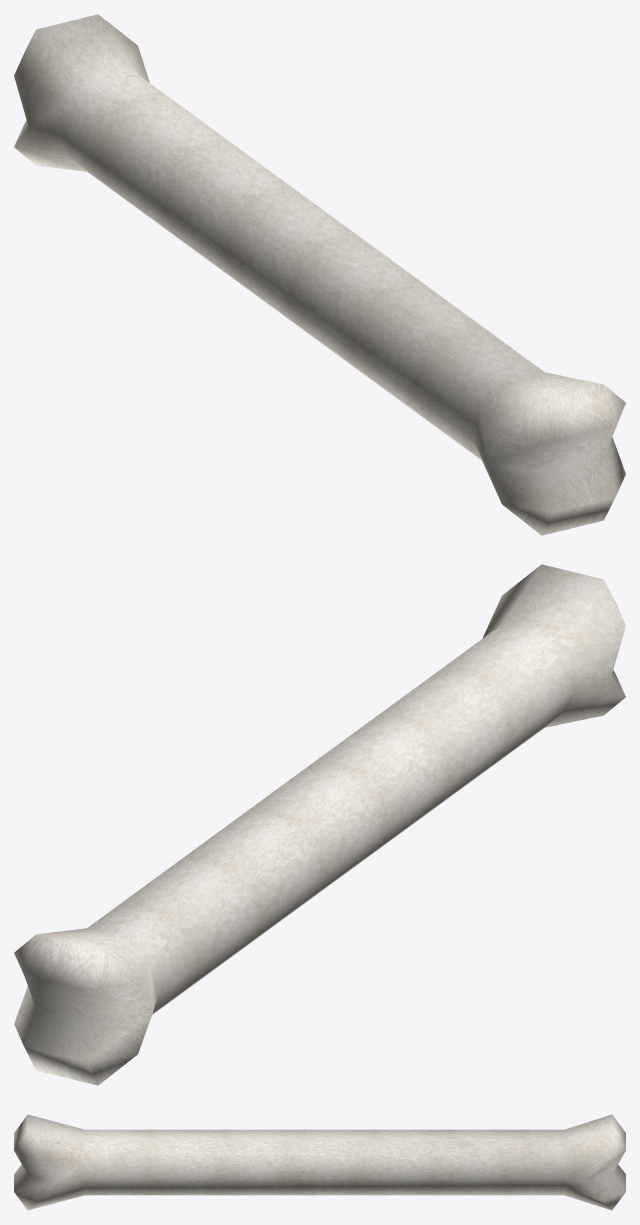
The model's file is Bone.fbx.
The picture shows the model from 3 angles, top to bottom: view 1: azimuth 30°, elevation 25°; view 2: azimuth 150°, elevation 25°; view 3: azimuth 270°, elevation 25°; orthographic projection. The views are drawn at different scales.
Parts seen in each view (by area): view 1: Bone; view 2: Bone; view 3: Bone.
Boxes of the visible parts, box(x1,y1,x2,y2) form: Bone: box(14, 14, 625, 535); Bone: box(14, 564, 625, 1085); Bone: box(14, 1114, 625, 1210).
Bounding box in the file's own units: 6.01 × 6.31 × 44.46.
Materials: 1 (1 with a texture image).
